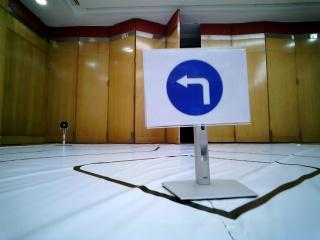left: (143, 52, 248, 123)
